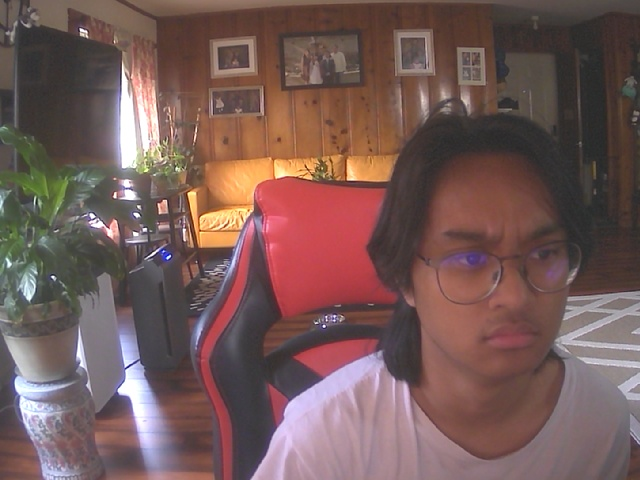anger: (395, 128, 592, 392)
